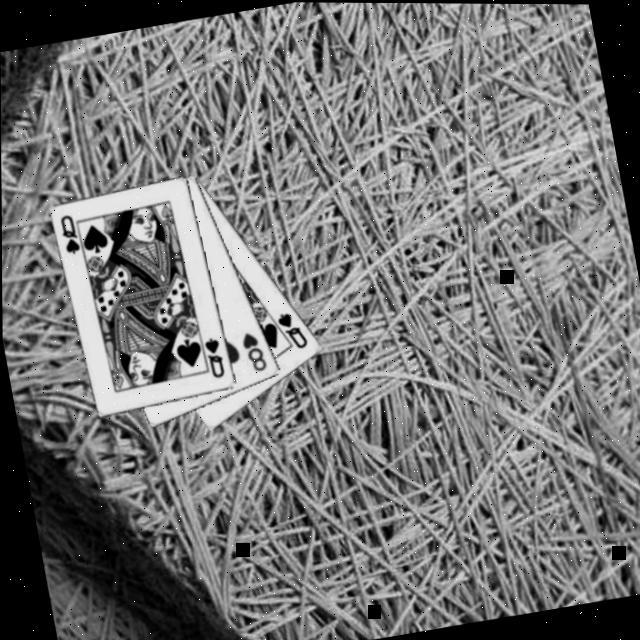8H: (237, 325, 271, 375)
QS: (273, 304, 312, 353), (201, 331, 229, 380), (56, 209, 83, 256)
